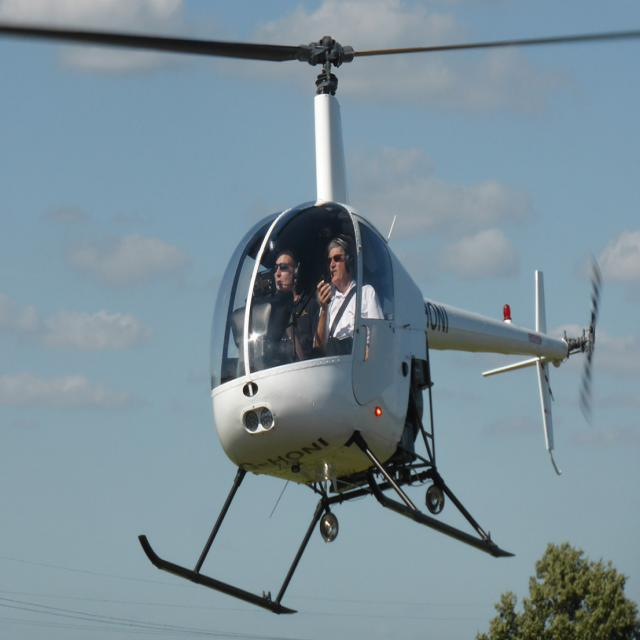helicopter: (1, 55, 640, 624)
